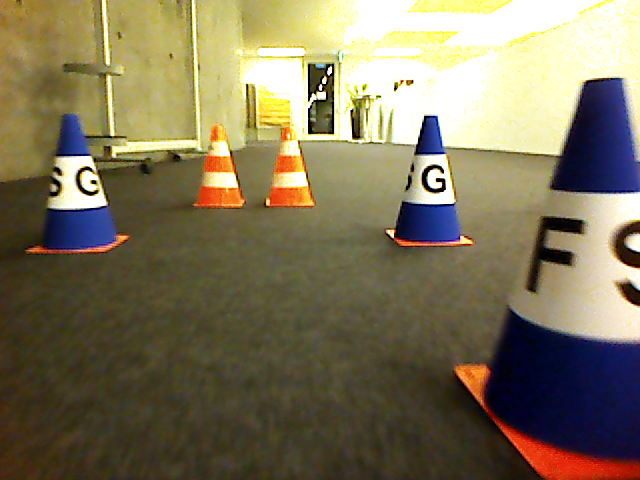bluecone: (453, 77, 640, 479), (22, 112, 132, 255), (385, 114, 476, 247)
orangeconesmall: (191, 122, 248, 209), (262, 126, 317, 208)
